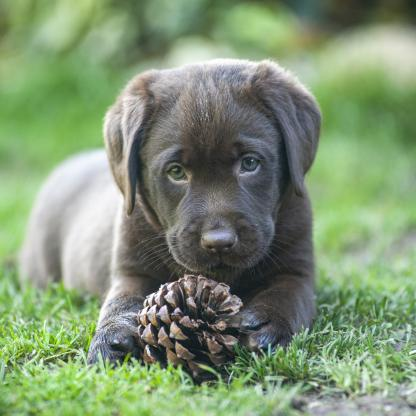dog: (17, 59, 319, 379)
